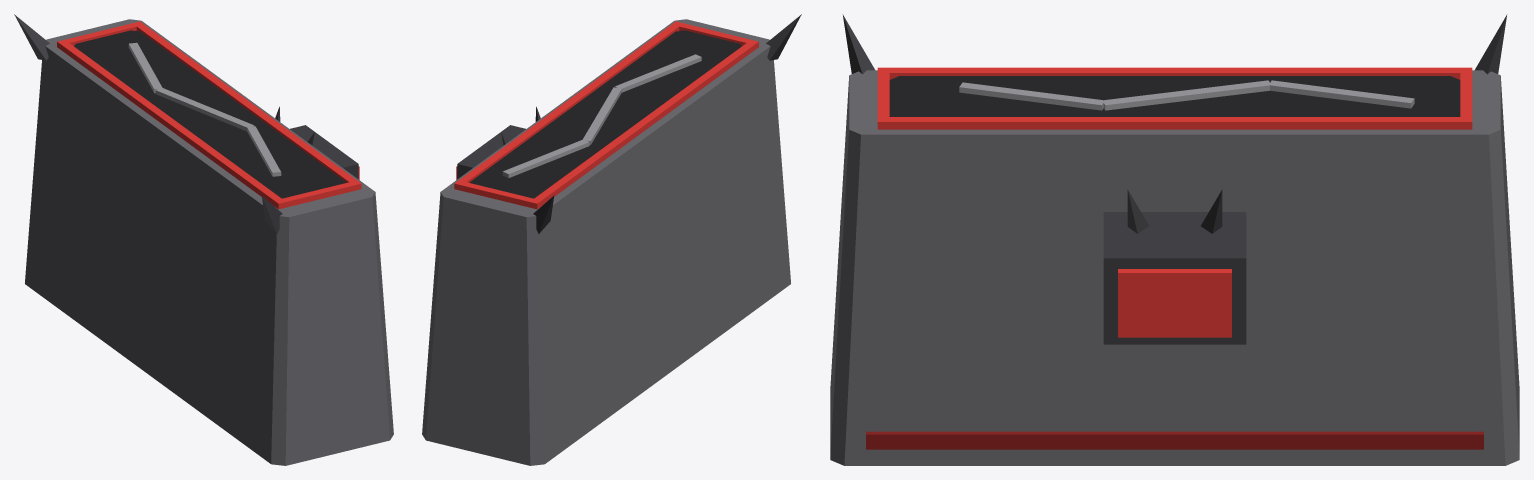
The model's file is void_monolith_left_e.obj.
The picture shows the model from 3 angles, left to right: view 1: azimuth 30°, elevation 25°; view 2: azimuth 150°, elevation 25°; view 3: azimuth 270°, elevation 25°; orthographic projection. The views are drawn at different scales.
Visible parts, largest first — view 1: void_monolith_left_e_0, void_monolith_left_e_1, void_monolith_left_e_14, void_monolith_left_e_15, void_monolith_left_e_5, void_monolith_left_e_3, void_monolith_left_e_12, void_monolith_left_e_13, void_monolith_left_e_2, void_monolith_left_e_4, void_monolith_left_e_11, void_monolith_left_e_10; view 2: void_monolith_left_e_0, void_monolith_left_e_1, void_monolith_left_e_14, void_monolith_left_e_15, void_monolith_left_e_5, void_monolith_left_e_13, void_monolith_left_e_4, void_monolith_left_e_2, void_monolith_left_e_3, void_monolith_left_e_12, void_monolith_left_e_10, void_monolith_left_e_11; view 3: void_monolith_left_e_0, void_monolith_left_e_1, void_monolith_left_e_7, void_monolith_left_e_5, void_monolith_left_e_6, void_monolith_left_e_15, void_monolith_left_e_14, void_monolith_left_e_3, void_monolith_left_e_2, void_monolith_left_e_4, void_monolith_left_e_12, void_monolith_left_e_13 (+2 smaller).
Boxes of the visible parts, x1,y1,x2,y2 form: void_monolith_left_e_0: [25, 19, 393, 465]; void_monolith_left_e_1: [74, 30, 345, 198]; void_monolith_left_e_14: [61, 43, 281, 205]; void_monolith_left_e_15: [136, 24, 356, 182]; void_monolith_left_e_5: [290, 125, 358, 179]; void_monolith_left_e_3: [155, 87, 254, 131]; void_monolith_left_e_12: [274, 180, 361, 209]; void_monolith_left_e_13: [57, 21, 143, 50]; void_monolith_left_e_2: [247, 126, 281, 176]; void_monolith_left_e_4: [128, 42, 162, 93]; void_monolith_left_e_11: [14, 14, 49, 60]; void_monolith_left_e_10: [261, 195, 282, 233]; void_monolith_left_e_0: [422, 19, 790, 465]; void_monolith_left_e_1: [470, 30, 741, 198]; void_monolith_left_e_14: [534, 43, 754, 205]; void_monolith_left_e_15: [459, 24, 679, 182]; void_monolith_left_e_5: [457, 125, 525, 179]; void_monolith_left_e_13: [454, 180, 541, 209]; void_monolith_left_e_4: [502, 140, 589, 177]; void_monolith_left_e_2: [614, 54, 701, 92]; void_monolith_left_e_3: [582, 87, 621, 144]; void_monolith_left_e_12: [672, 21, 758, 50]; void_monolith_left_e_10: [766, 14, 801, 60]; void_monolith_left_e_11: [533, 195, 554, 233]; void_monolith_left_e_0: [830, 70, 1519, 465]; void_monolith_left_e_1: [889, 76, 1460, 116]; void_monolith_left_e_7: [866, 431, 1483, 449]; void_monolith_left_e_5: [1103, 212, 1246, 344]; void_monolith_left_e_6: [1118, 269, 1231, 337]; void_monolith_left_e_15: [889, 117, 1460, 129]; void_monolith_left_e_14: [889, 67, 1460, 79]; void_monolith_left_e_3: [1103, 80, 1271, 110]; void_monolith_left_e_2: [959, 82, 1104, 110]; void_monolith_left_e_4: [1270, 80, 1414, 108]; void_monolith_left_e_12: [877, 67, 889, 129]; void_monolith_left_e_13: [1460, 67, 1472, 129].
Size of the model in its own units: 1.31 by 1.69 by 2.9.
